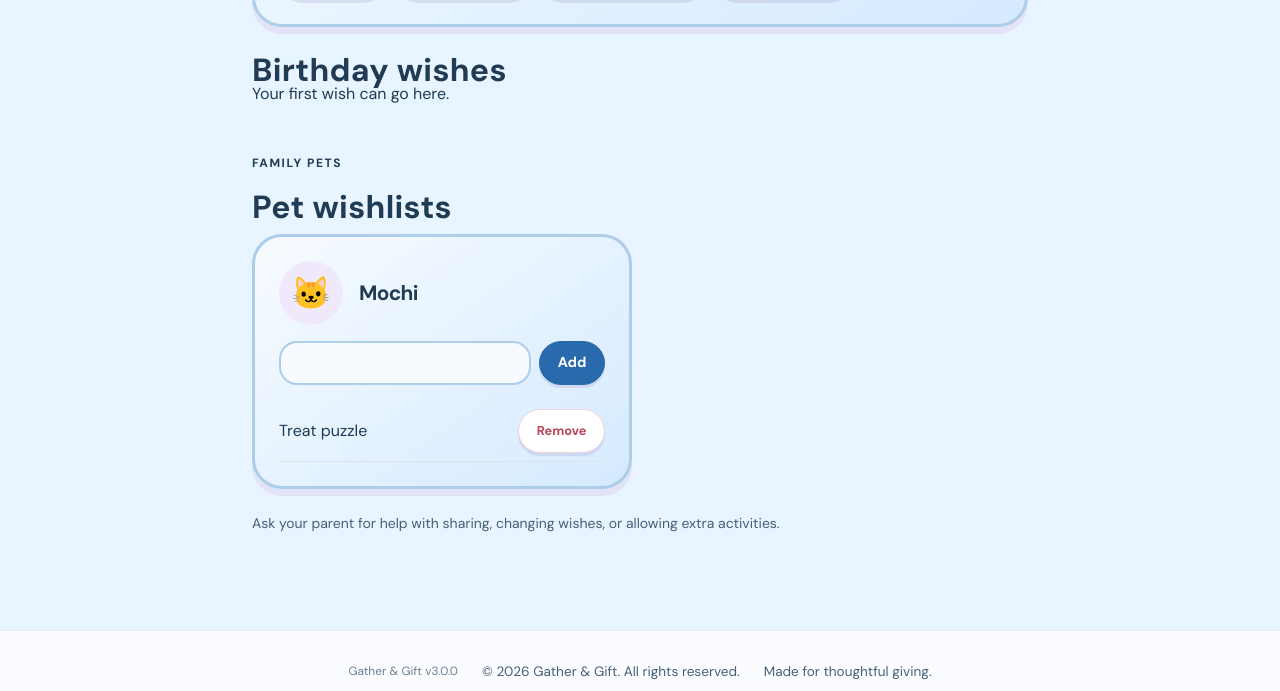
Scenario: separate support sign-in › lets a child add and remove wishes on family pet lists
This screenshot has width=1280, height=691.
(page scrolled)
Expected: the heading "Pet wishlists" is shown, [252,186,452,228]
In the field named "Add a wish for Mochi": (405, 363) [279,341,531,385], type "New cat bed"
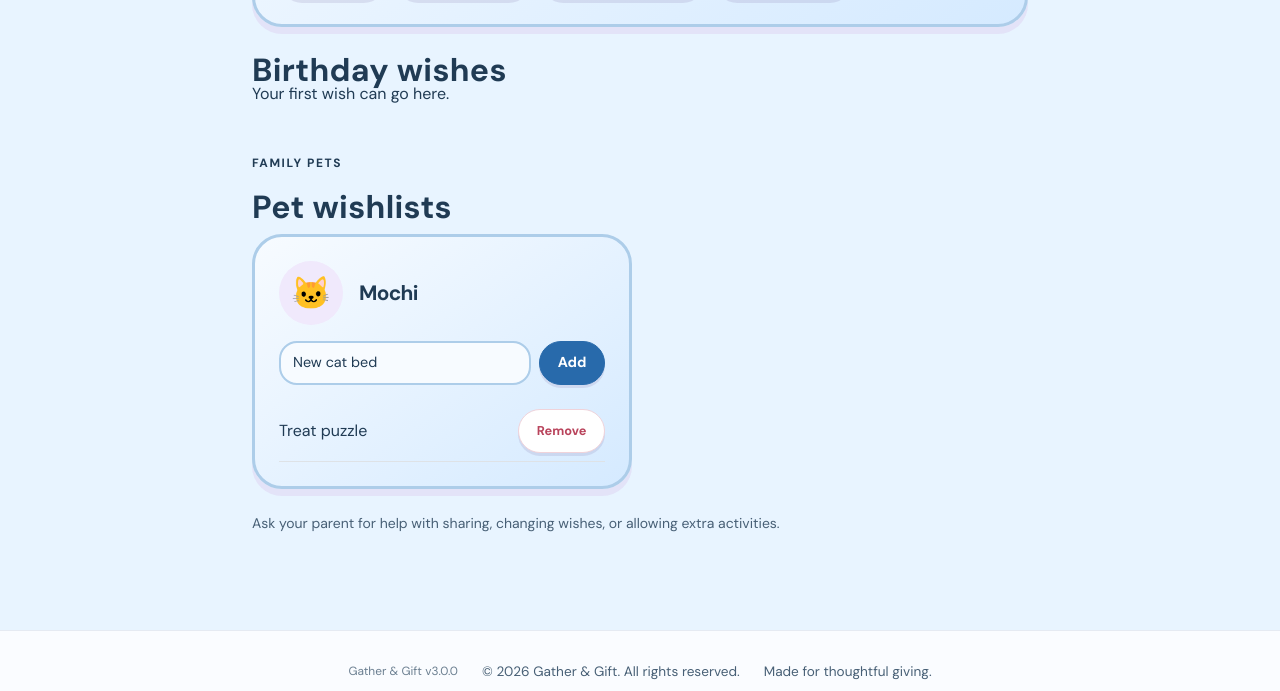
Click the button "Add": (572, 363) [539,341,605,385]
(page scrolled)
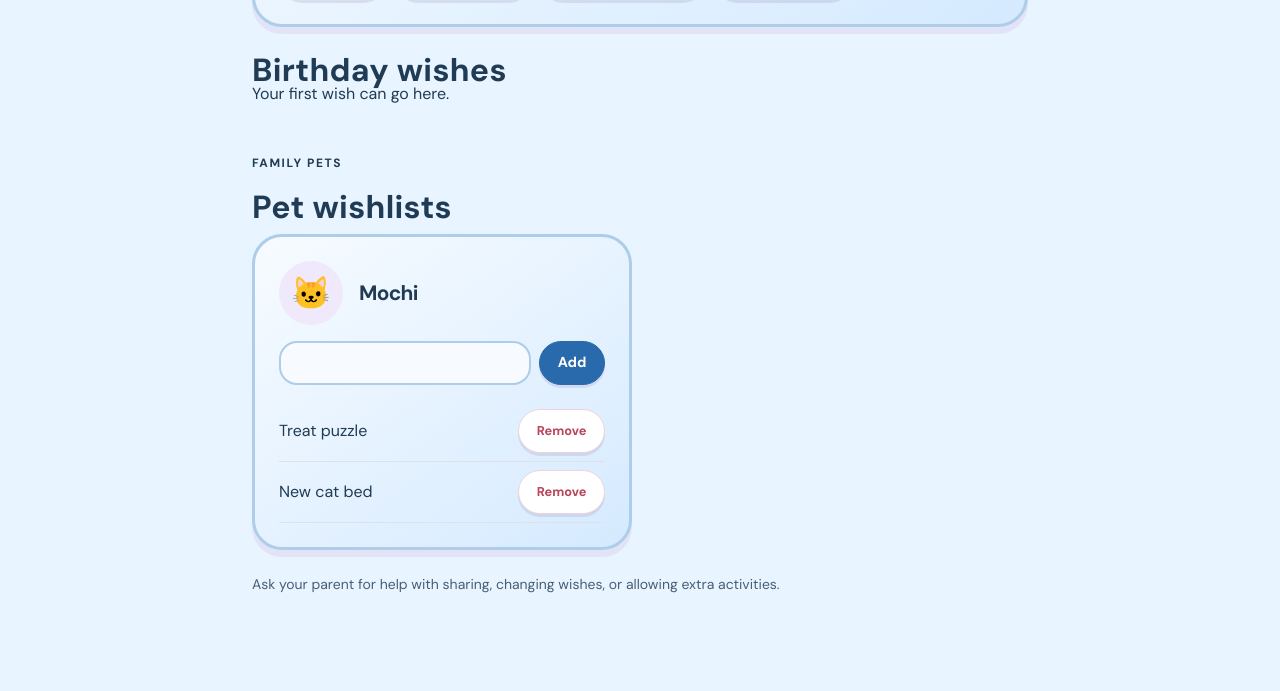
Click the button named "Remove Treat puzzle from Mochi's wishlist": (562, 431) [518,409,605,453]
(page scrolled)
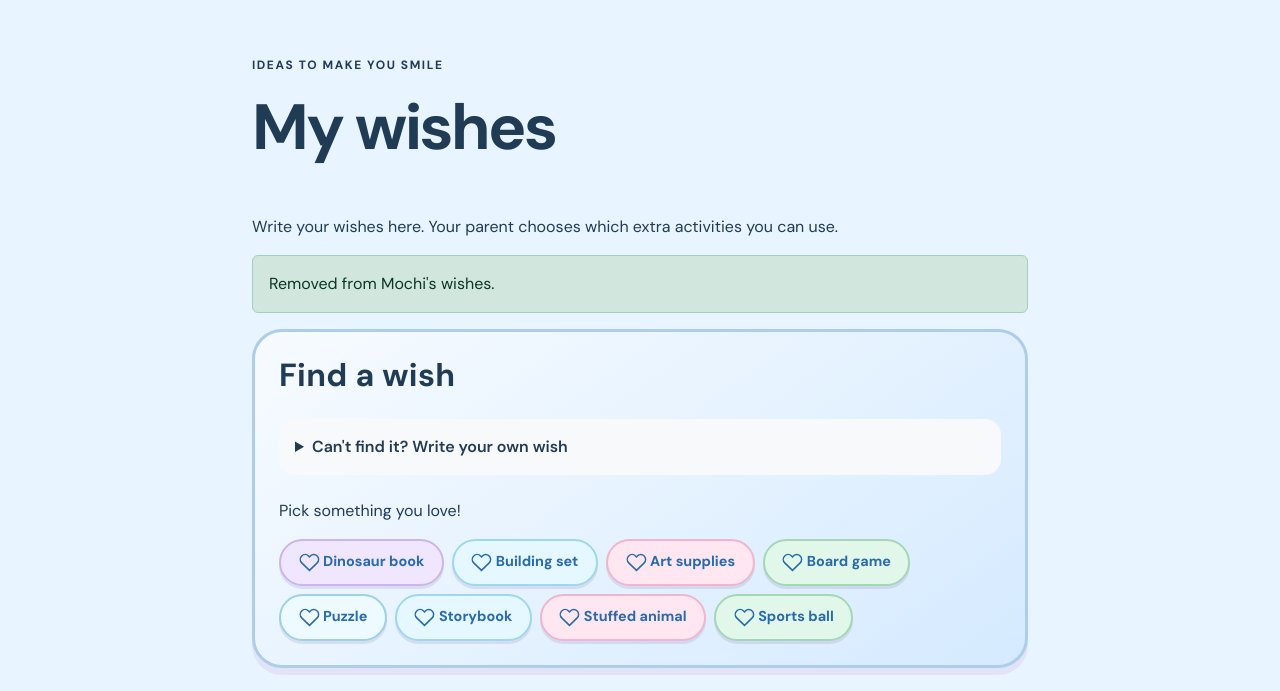
Now the text "Removed from Mochi's wishes." is shown, box [252,255,1028,313]
Now the text "Treat puzzle" is gone
